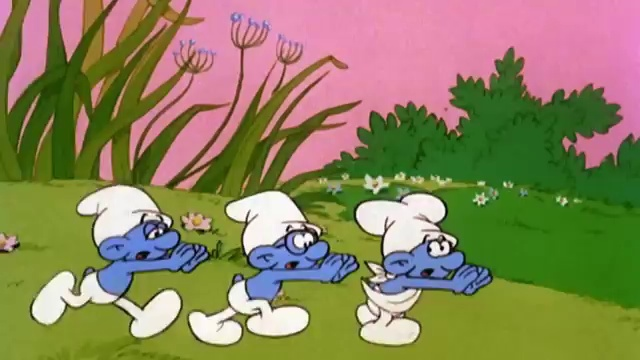smurf: (39, 186, 187, 336), (191, 191, 337, 343), (349, 192, 485, 344)
